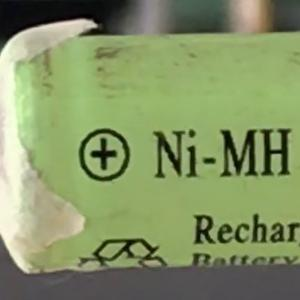keyword: (143, 119, 298, 188)
